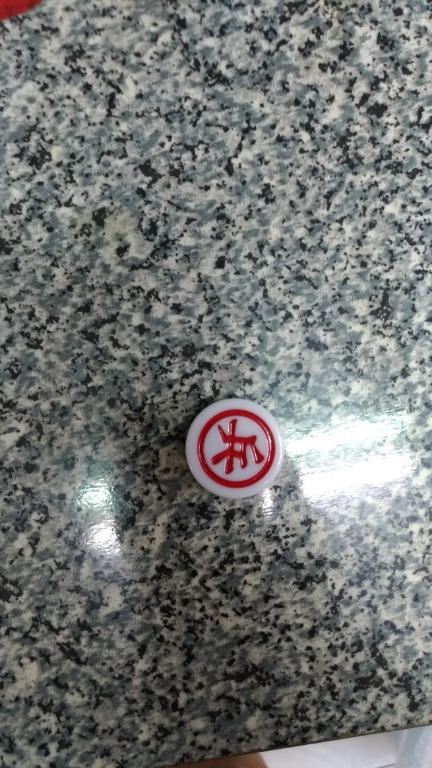r-pawn: (173, 392, 292, 499)
